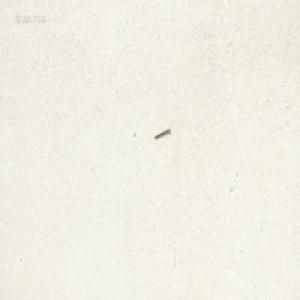Bolt: (153, 127, 169, 139)
